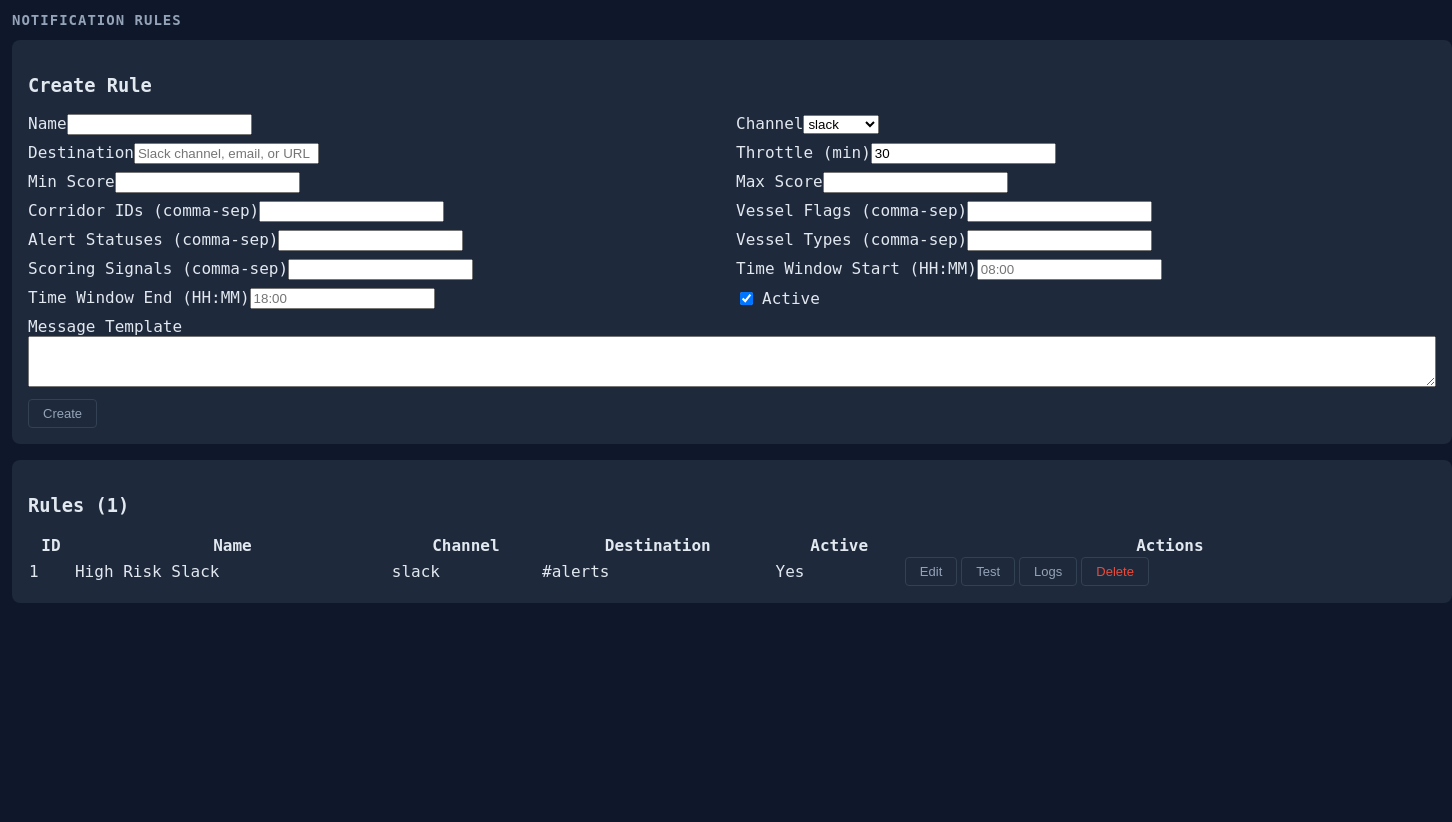
Scenario: NotificationRulesPage › shows edit form when Edit clicked
Expected: the text "High Risk Slack" is shown, [74,556,391,587]
What coordinates should you click on to do the following:
click the button "Edit"
I would click on:
 (931, 571)
Its box is [905,557,957,586].
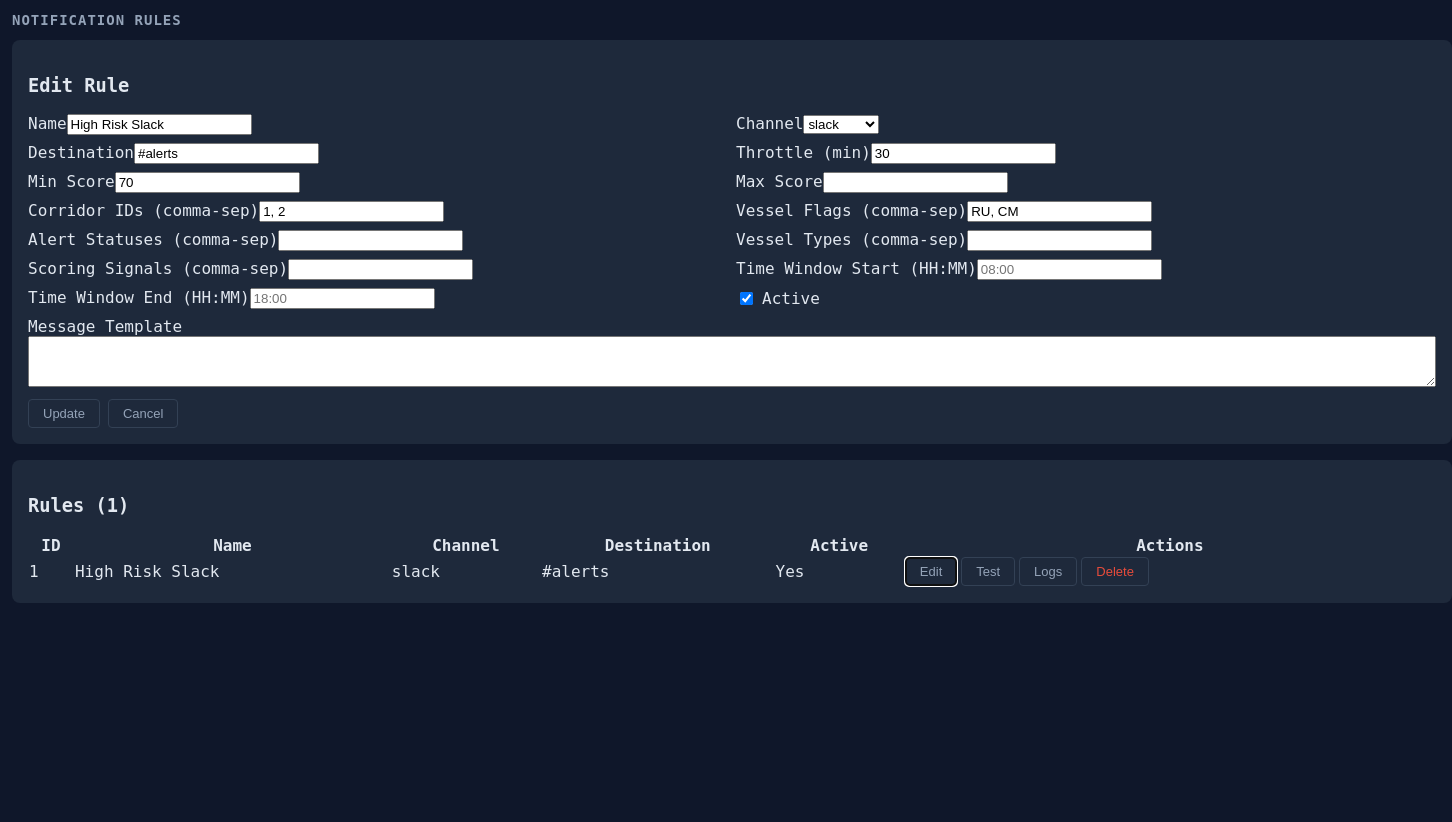
Now the heading "Edit Rule" is shown, box [28,75,129,96]
Now the button "Cancel" is shown, box [108,399,178,428]
